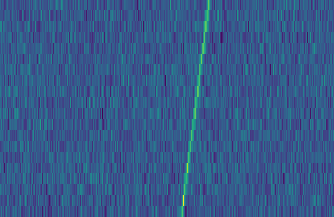signal: (177, 0, 214, 217)
